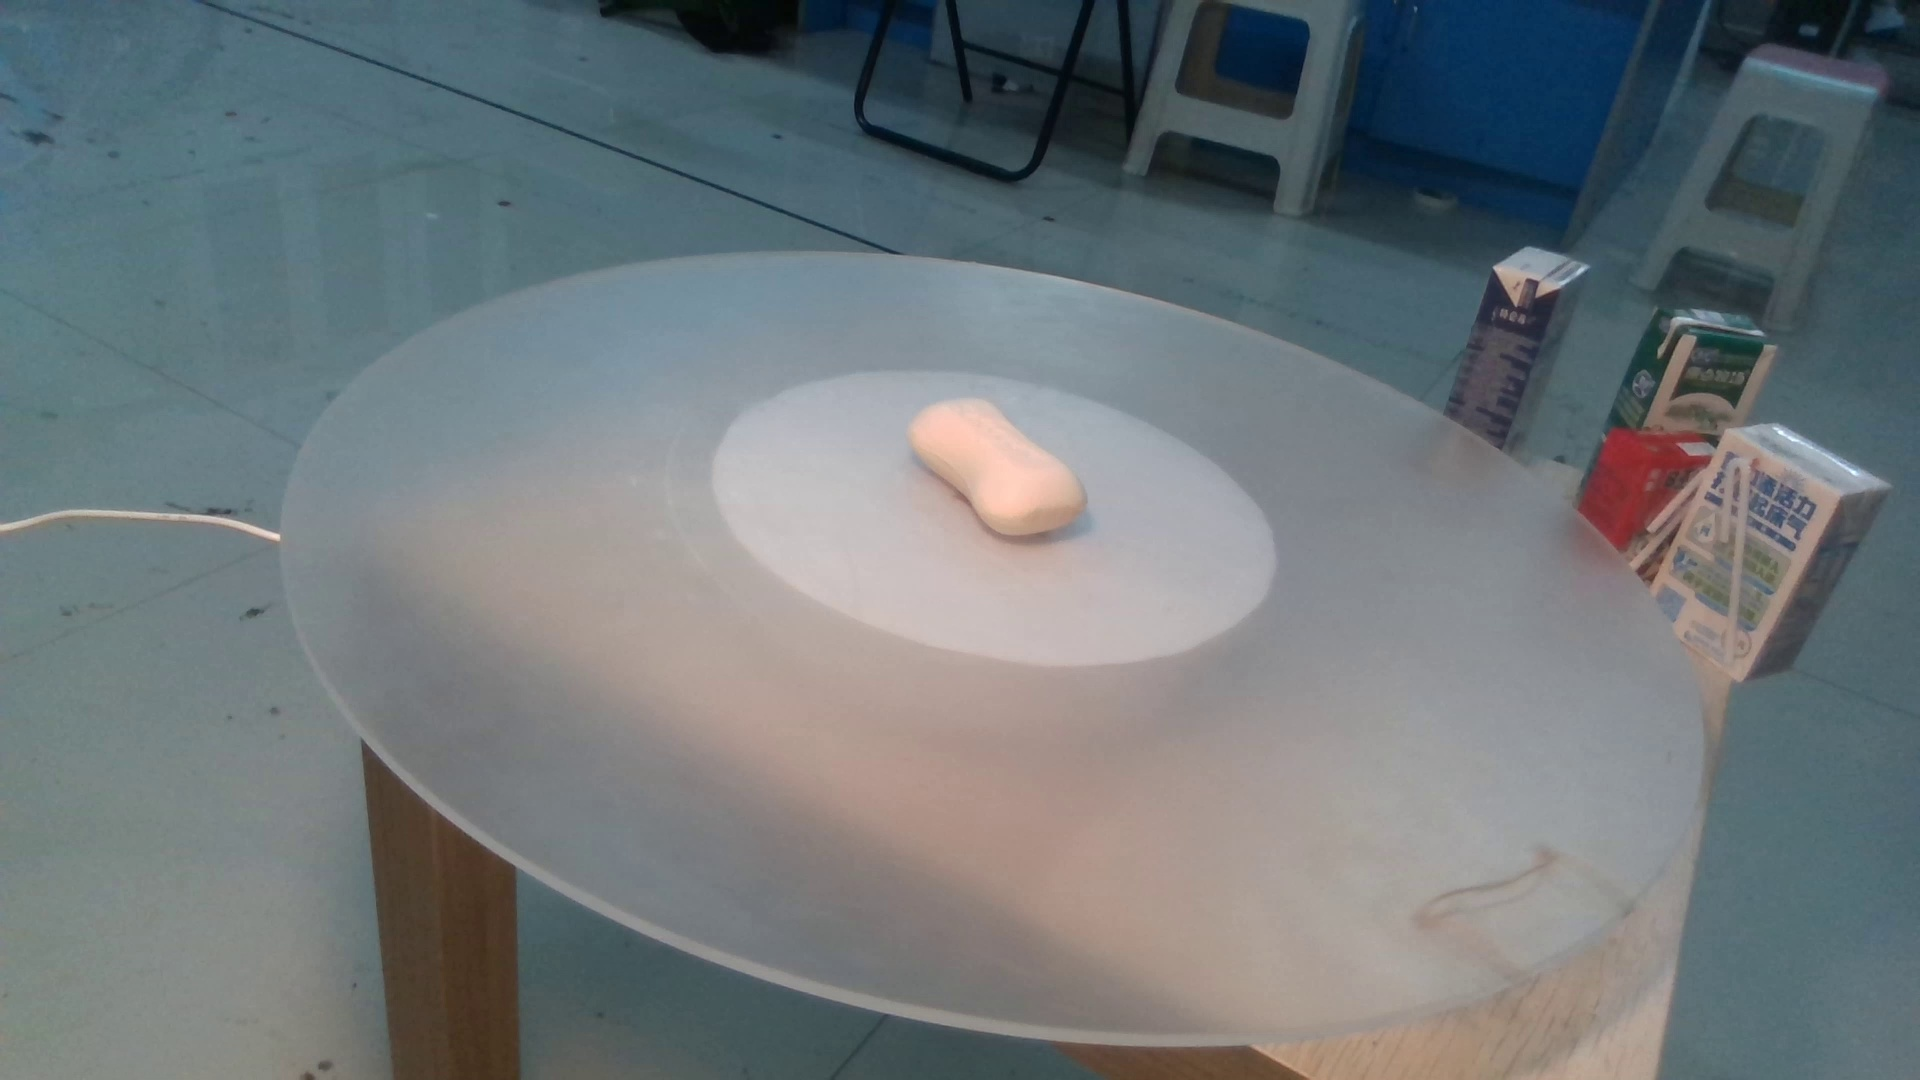CA003_1: (889, 380, 1138, 550)
